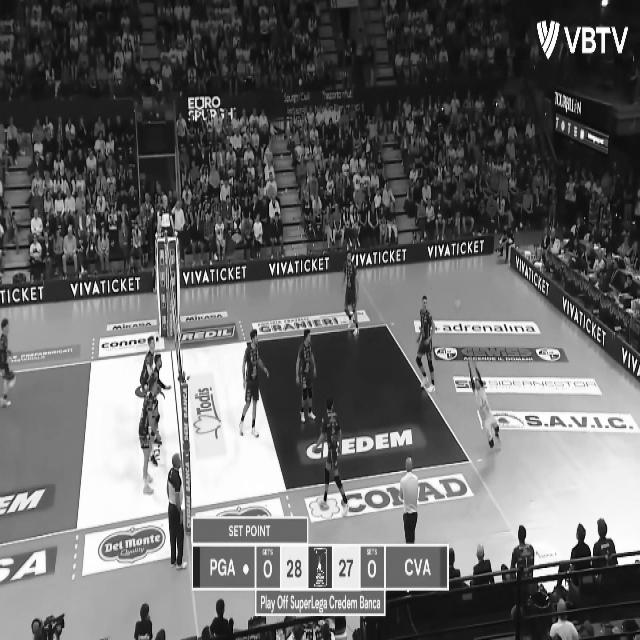volleyball court: (0, 306, 469, 548)
